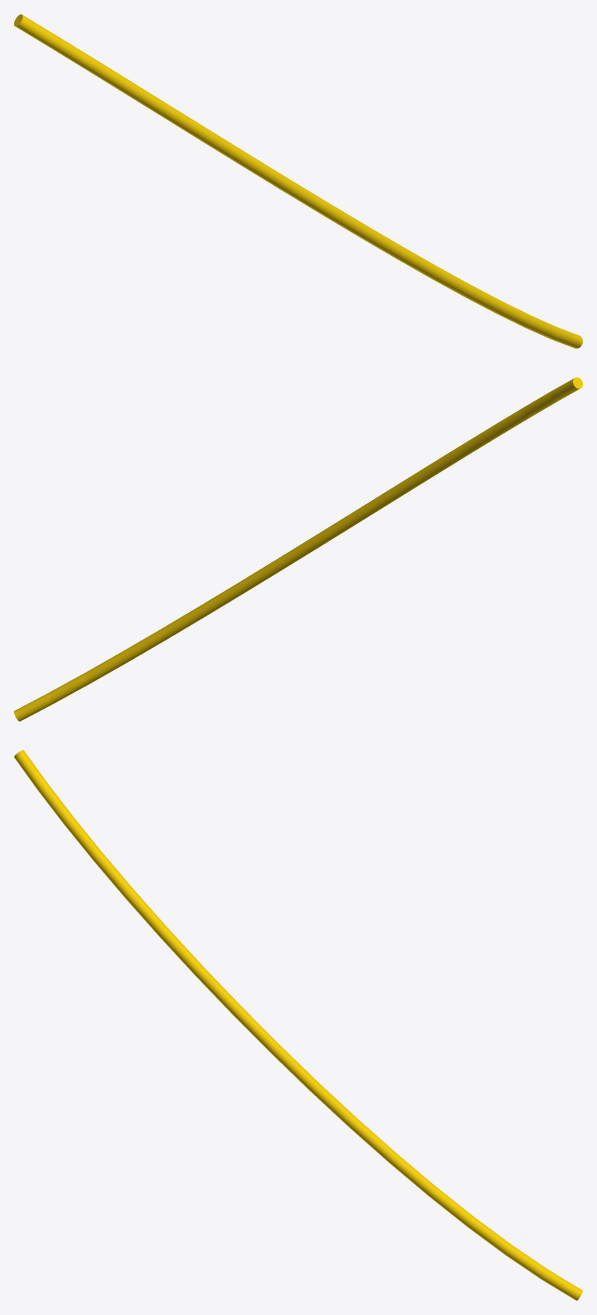
File: Event_421556567_track_6.fbx
The picture shows the model from 3 angles, top to bottom: view 1: azimuth 30°, elevation 25°; view 2: azimuth 150°, elevation 25°; view 3: azimuth 330°, elevation 25°; orthographic projection. The views are drawn at different scales.
Parts seen in each view (by area): view 1: Model; view 2: Model; view 3: Model.
Part boxes in pixels (left/top/right/bottom): Model: left=14, top=14, right=582, bottom=348; Model: left=14, top=377, right=582, bottom=721; Model: left=14, top=750, right=582, bottom=1300.
Bounding box in the file's own units: 2.03 × 1.62 × 0.3304.
